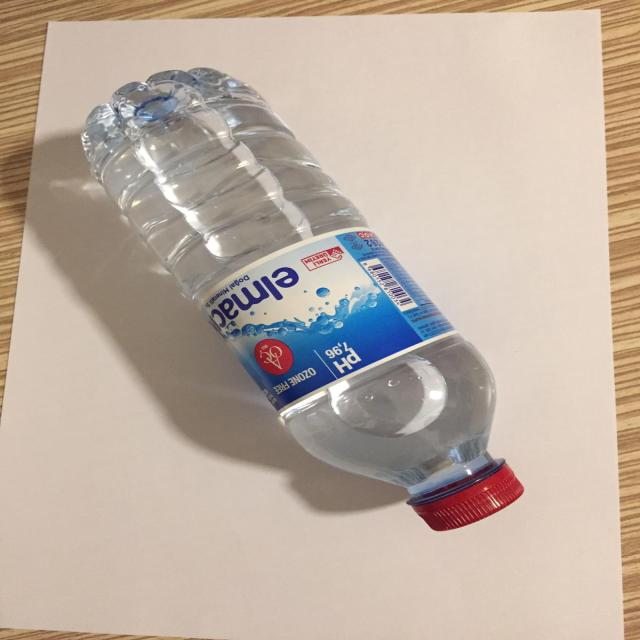anorganik: (81, 61, 539, 536)
